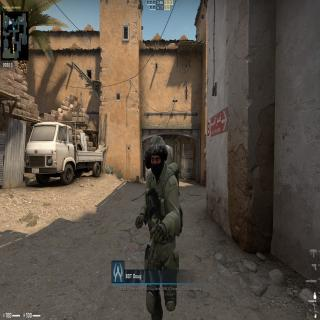CT-Head: (144, 131, 168, 177)
